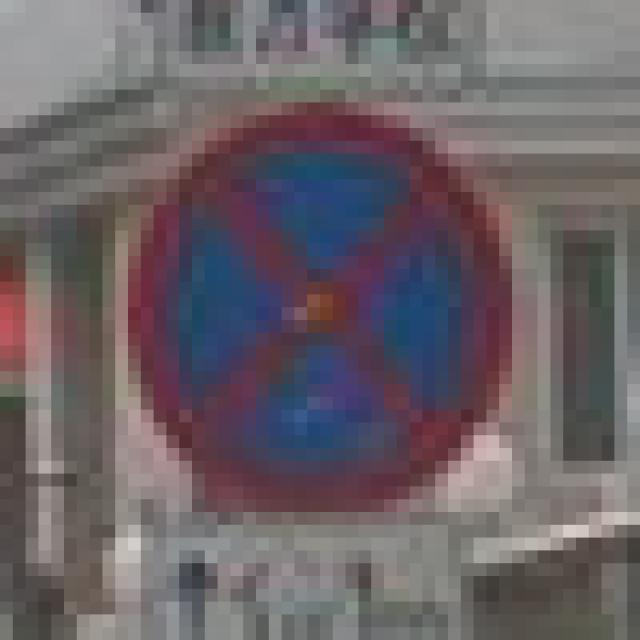no stopping or standing: (119, 93, 522, 521)
